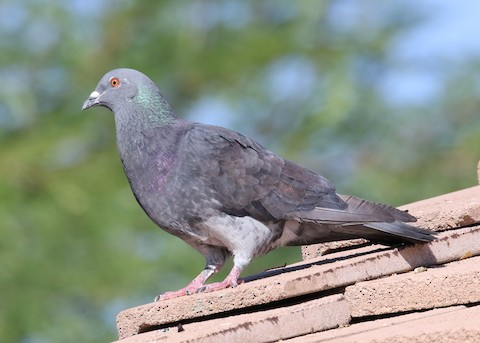pigeon: (73, 63, 441, 299)
